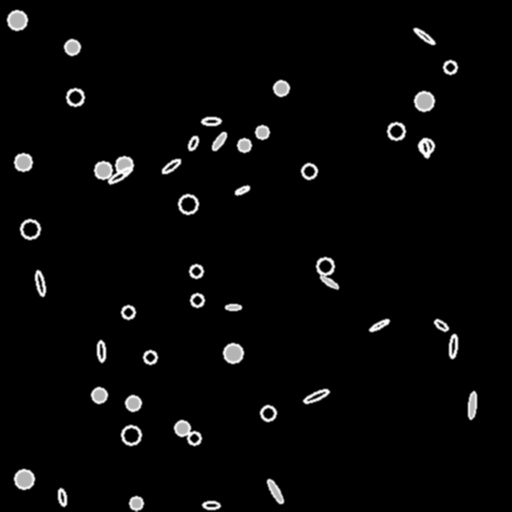pseudomonas: (107, 165, 133, 185), (266, 478, 284, 504), (303, 388, 329, 404), (413, 27, 435, 45), (210, 131, 228, 151), (319, 274, 339, 290), (161, 158, 181, 174), (34, 270, 46, 296), (369, 318, 389, 332), (467, 392, 477, 418), (433, 318, 449, 332), (420, 138, 430, 158), (187, 135, 199, 151), (234, 184, 250, 196), (449, 334, 457, 358), (57, 488, 67, 506), (97, 341, 105, 361), (201, 118, 221, 124), (225, 304, 241, 310), (203, 502, 219, 508)
synechocystis: (179, 195, 197, 213), (224, 344, 242, 362), (21, 220, 39, 238), (122, 426, 140, 444), (15, 470, 33, 488), (415, 92, 433, 110), (8, 11, 26, 29), (67, 89, 83, 105), (116, 157, 132, 173), (95, 162, 111, 178), (388, 123, 404, 139), (317, 258, 333, 274), (15, 154, 31, 170), (126, 396, 140, 410), (419, 139, 433, 153), (65, 40, 79, 54), (274, 81, 288, 95), (175, 421, 189, 435), (302, 164, 316, 178), (261, 406, 275, 420), (92, 388, 106, 402), (144, 351, 156, 363), (256, 126, 268, 138), (444, 61, 456, 73), (130, 497, 142, 509), (238, 139, 250, 151), (122, 306, 134, 318), (190, 265, 202, 277), (188, 432, 200, 444), (191, 294, 203, 306)
